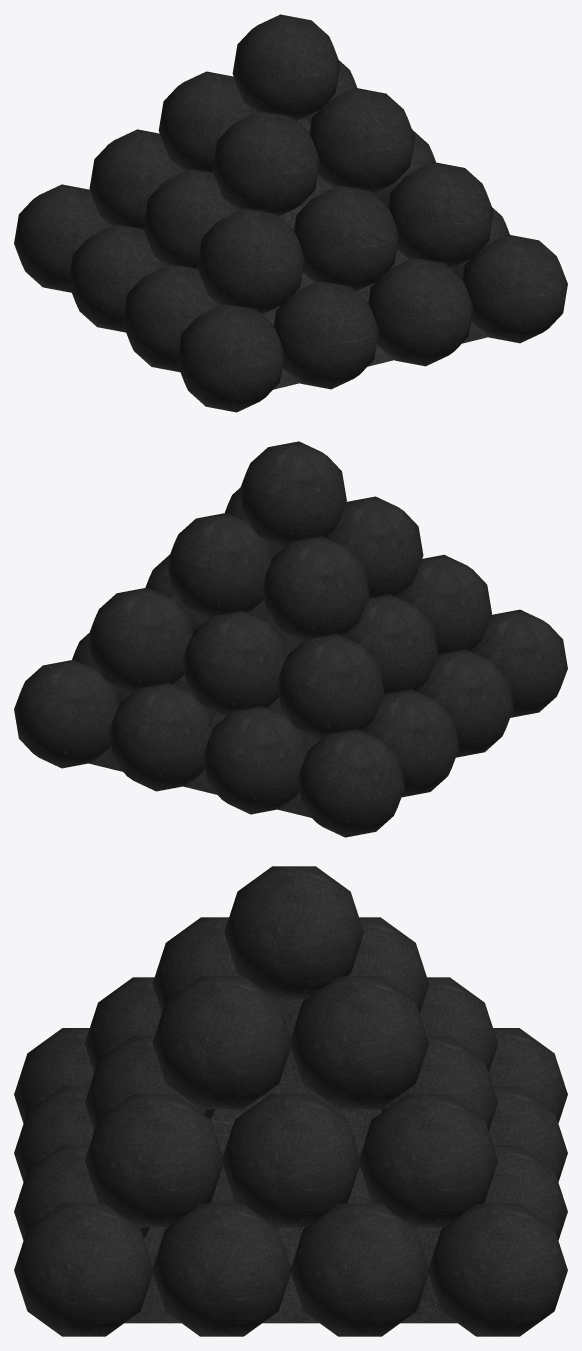
Rendered from mm_kulstapel.FBX.
3 views of the same model, one above another, from view 1: azimuth 30°, elevation 25°; view 2: azimuth 150°, elevation 25°; view 3: azimuth 270°, elevation 25° (orthographic). The views are drawn at different scales.
Parts seen in each view (by area): view 1: GeoSphere004, GeoSphere028, GeoSphere030, GeoSphere011, GeoSphere015, GeoSphere007, GeoSphere024, GeoSphere026, GeoSphere023, GeoSphere025, GeoSphere001, GeoSphere002 (+8 smaller); view 2: GeoSphere001, GeoSphere029, GeoSphere012, GeoSphere008, GeoSphere016, GeoSphere019, GeoSphere030, GeoSphere027, GeoSphere017, GeoSphere018, GeoSphere004, GeoSphere003 (+7 smaller); view 3: GeoSphere015, GeoSphere016, GeoSphere026, GeoSphere027, GeoSphere014, GeoSphere013, GeoSphere030, GeoSphere025, GeoSphere017, GeoSphere022, Pyramid001, GeoSphere018 (+11 smaller).
Part boxes in pixels (bbox=[...]): GeoSphere004: bbox=[177, 303, 284, 412]; GeoSphere028: bbox=[212, 111, 319, 216]; GeoSphere030: bbox=[232, 14, 340, 121]; GeoSphere011: bbox=[368, 257, 473, 366]; GeoSphere015: bbox=[462, 234, 567, 343]; GeoSphere007: bbox=[273, 280, 378, 389]; GeoSphere024: bbox=[197, 208, 304, 314]; GeoSphere026: bbox=[309, 87, 414, 193]; GeoSphere023: bbox=[294, 185, 399, 291]; GeoSphere025: bbox=[388, 162, 493, 268]; GeoSphere001: bbox=[14, 184, 111, 292]; GeoSphere002: bbox=[68, 224, 165, 332]; GeoSphere001: bbox=[297, 729, 404, 837]; GeoSphere029: bbox=[262, 536, 369, 641]; GeoSphere012: bbox=[108, 682, 213, 791]; GeoSphere008: bbox=[203, 705, 308, 814]; GeoSphere016: bbox=[14, 659, 119, 768]; GeoSphere019: bbox=[276, 633, 384, 739]; GeoSphere030: bbox=[239, 441, 346, 548]; GeoSphere027: bbox=[167, 512, 272, 618]; GeoSphere017: bbox=[88, 587, 193, 693]; GeoSphere018: bbox=[182, 610, 287, 716]; GeoSphere004: bbox=[470, 609, 567, 717]; GeoSphere003: bbox=[416, 649, 513, 757]; GeoSphere015: bbox=[14, 1203, 152, 1336]; GeoSphere016: bbox=[429, 1203, 567, 1336]; GeoSphere026: bbox=[152, 976, 290, 1109]; GeoSphere027: bbox=[290, 976, 428, 1109]; GeoSphere014: bbox=[153, 1203, 290, 1336]; GeoSphere013: bbox=[291, 1203, 428, 1336]; GeoSphere030: bbox=[224, 866, 363, 999]; GeoSphere025: bbox=[84, 1094, 222, 1227]; GeoSphere017: bbox=[360, 1094, 497, 1227]; GeoSphere022: bbox=[223, 1094, 359, 1227]; Pyramid001: bbox=[124, 999, 457, 1323]; GeoSphere018: bbox=[381, 1036, 498, 1130].
Size of the model in its own units: 62.75 by 47.25 by 63.35.
1 material, 1 textured.
